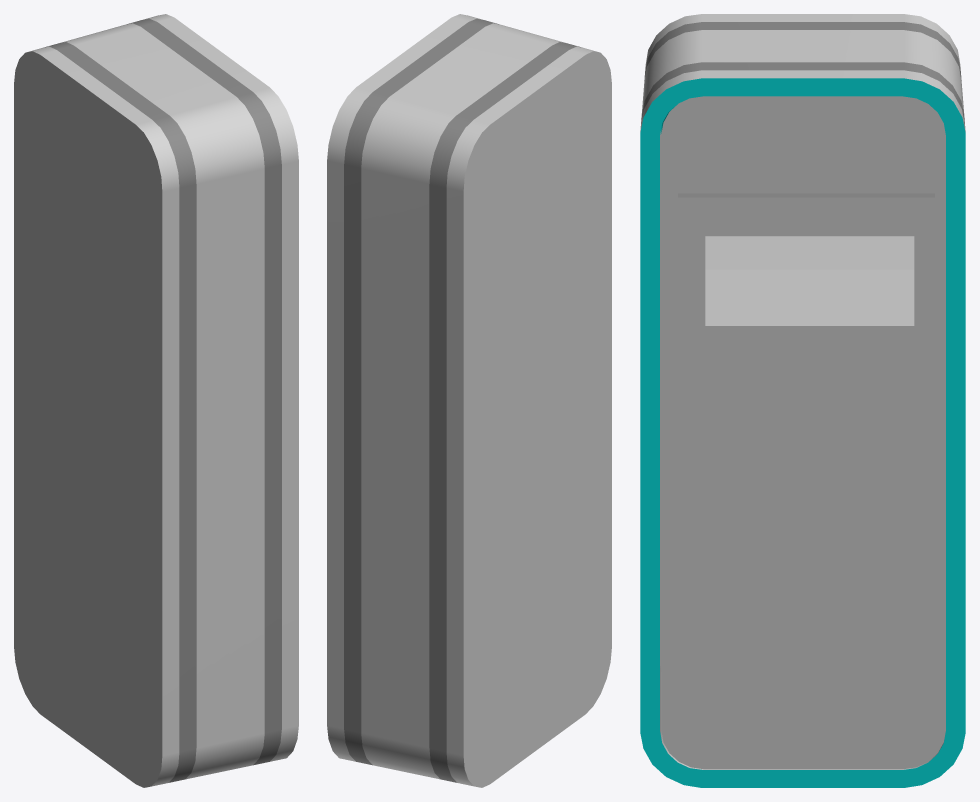
File: locker.fbx
3 views of the same model, side by side, from view 1: azimuth 30°, elevation 25°; view 2: azimuth 150°, elevation 25°; view 3: azimuth 270°, elevation 25° (orthographic). The views are drawn at different scales.
Parts seen in each view (by area): view 1: locker_base; view 2: locker_base; view 3: locker_locker_door_locker_door, locker_base.
Part boxes in pixels (box(x1,y1,x2,y2)): locker_base: box(14, 14, 298, 787); locker_base: box(327, 14, 611, 787); locker_locker_door_locker_door: box(661, 96, 945, 769); locker_base: box(640, 14, 965, 787).
Size of the model in its own units: 0.502 by 2.07 by 0.8602.
